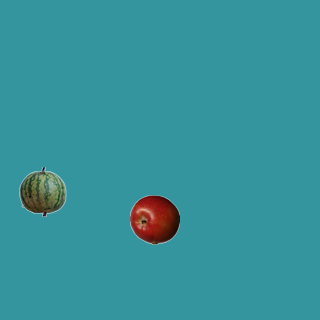Apple Braeburn: (129, 194, 179, 244)
Watermelon: (17, 166, 67, 216)
